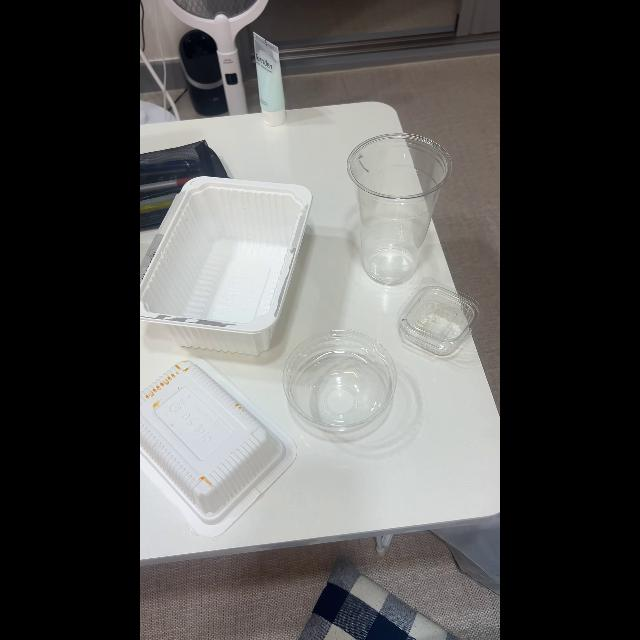clean: (163, 174, 289, 328), (340, 132, 446, 286), (288, 333, 400, 439), (409, 290, 478, 360)
dirty: (142, 354, 272, 518)
